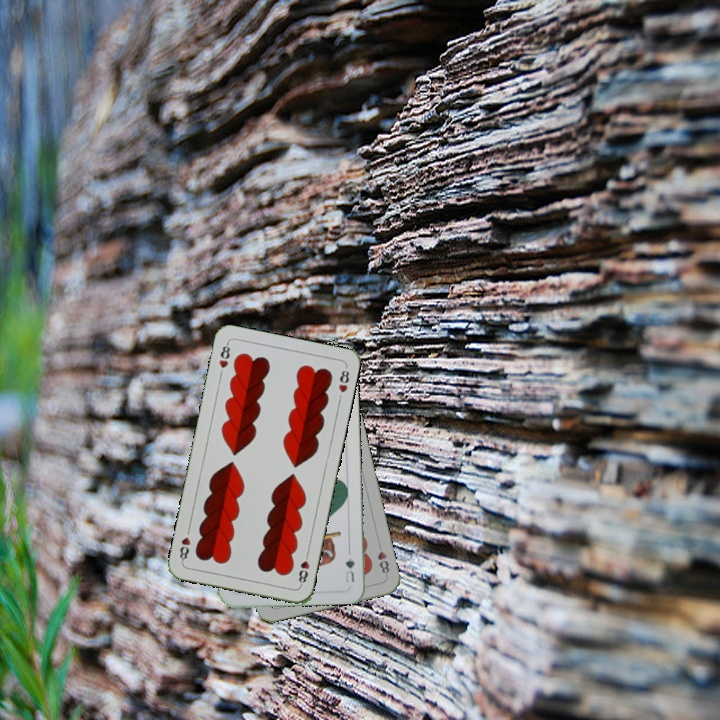GU: (341, 547, 357, 585)
H8: (294, 548, 312, 588), (373, 539, 392, 576), (215, 339, 233, 371)
